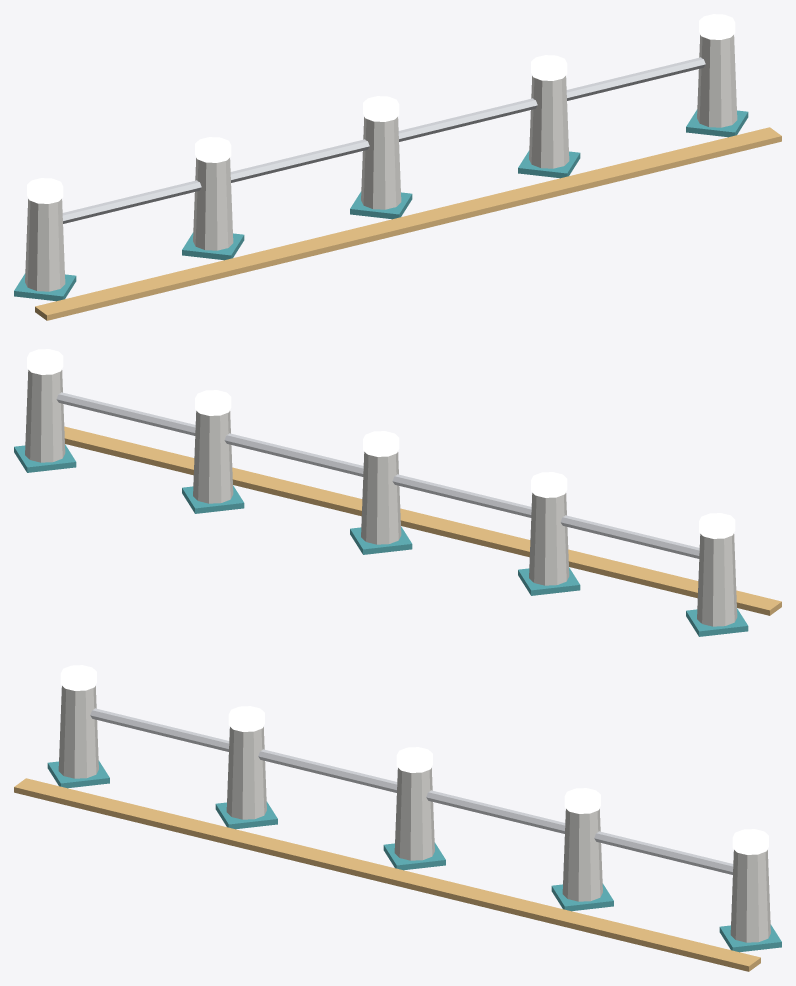
Rendered from arcology-towers-and-skyways-bollard-row-3cf1b14a__23272.glb.
3 renders of one model, top to bottom at view 1: azimuth 30°, elevation 25°; view 2: azimuth 150°, elevation 25°; view 3: azimuth 330°, elevation 25°, orthographic.
Visible parts, largest first — view 1: bollard-row; view 2: bollard-row; view 3: bollard-row.
Boxes of the visible parts, x1,y1,x2,y2 form: bollard-row: (14,14,781,320); bollard-row: (14,349,781,636); bollard-row: (14,665,781,971).
Bounding box in the file's own units: 7 × 0.9598 × 0.8471.
